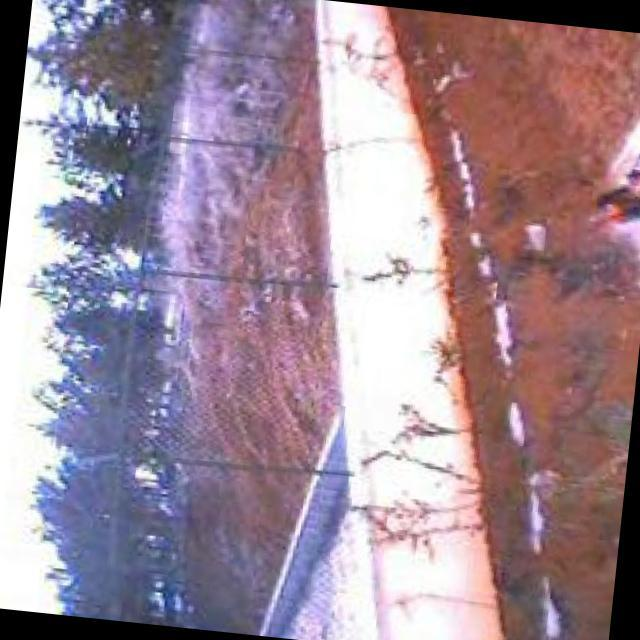Fire: (582, 160, 640, 233)
